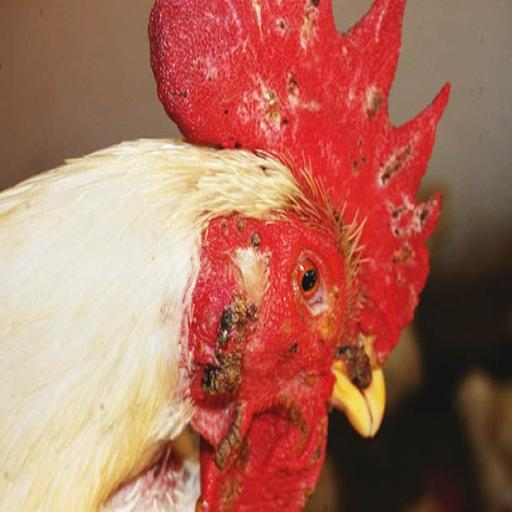disease: (192, 12, 317, 158), (200, 288, 265, 435), (198, 424, 274, 510), (382, 190, 446, 280), (213, 208, 279, 280), (229, 198, 285, 282), (333, 330, 387, 412), (274, 1, 344, 61), (350, 145, 429, 189), (364, 72, 390, 131), (170, 69, 190, 109)
